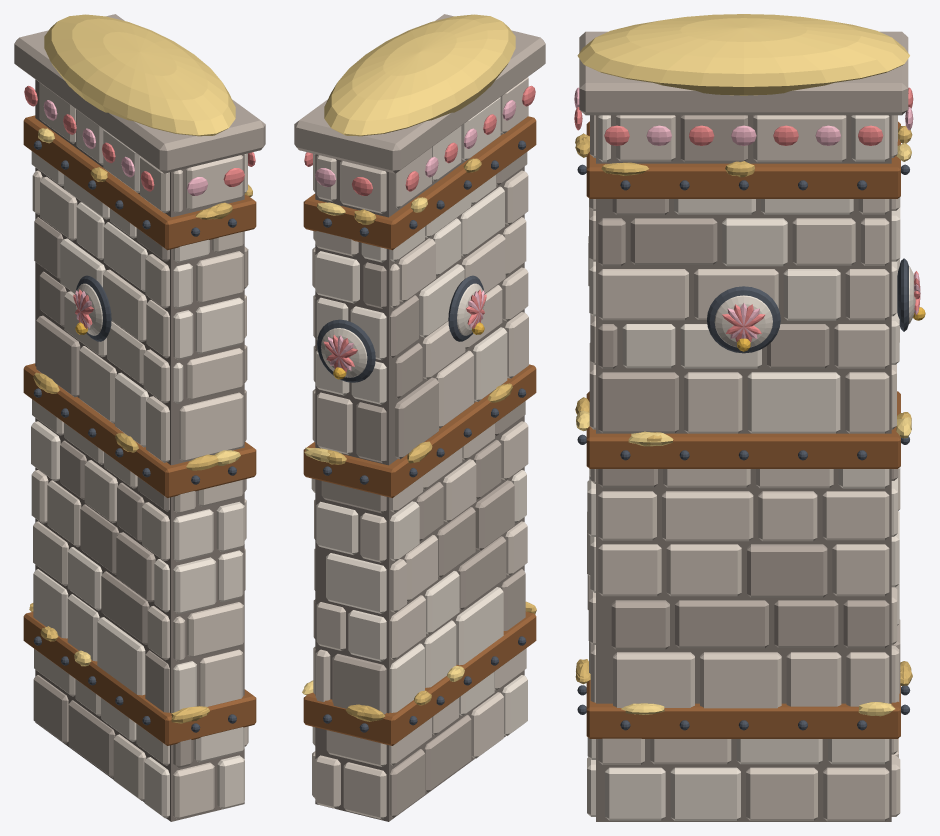
File: BossGate_CoralCoast.fbx
The picture shows the model from 3 angles, left to right: view 1: azimuth 30°, elevation 25°; view 2: azimuth 150°, elevation 25°; view 3: azimuth 270°, elevation 25°; orthographic projection. The views are drawn at different scales.
Parts seen in each view (by area): view 1: BossGate_CoralCoast; view 2: BossGate_CoralCoast; view 3: BossGate_CoralCoast.
Boxes of the visible parts, x1,y1,x2,y2 form: BossGate_CoralCoast: (14,14,265,821); BossGate_CoralCoast: (294,14,545,821); BossGate_CoralCoast: (574,14,925,821).
Size of the model in its own units: 156 by 832 by 342.
